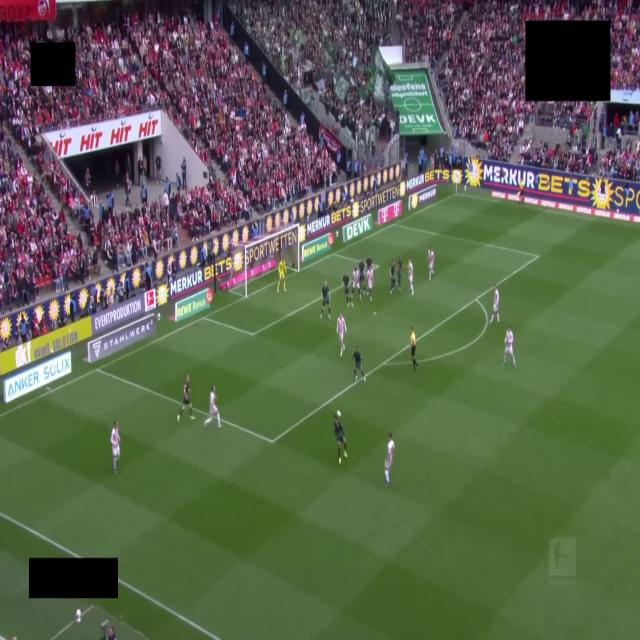ball: (336, 410, 341, 418)
player: (177, 376, 194, 421), (334, 411, 347, 463), (205, 386, 221, 428), (503, 327, 515, 367), (385, 433, 394, 486), (353, 347, 365, 381), (111, 422, 119, 473), (351, 266, 361, 306), (337, 314, 346, 356), (342, 272, 352, 307), (321, 281, 330, 319), (490, 286, 499, 322), (277, 258, 286, 292), (358, 257, 365, 299), (367, 266, 373, 301), (428, 248, 434, 280), (408, 259, 413, 295), (397, 256, 402, 290), (390, 261, 395, 294), (366, 254, 373, 269)
referee: (410, 328, 418, 369)
